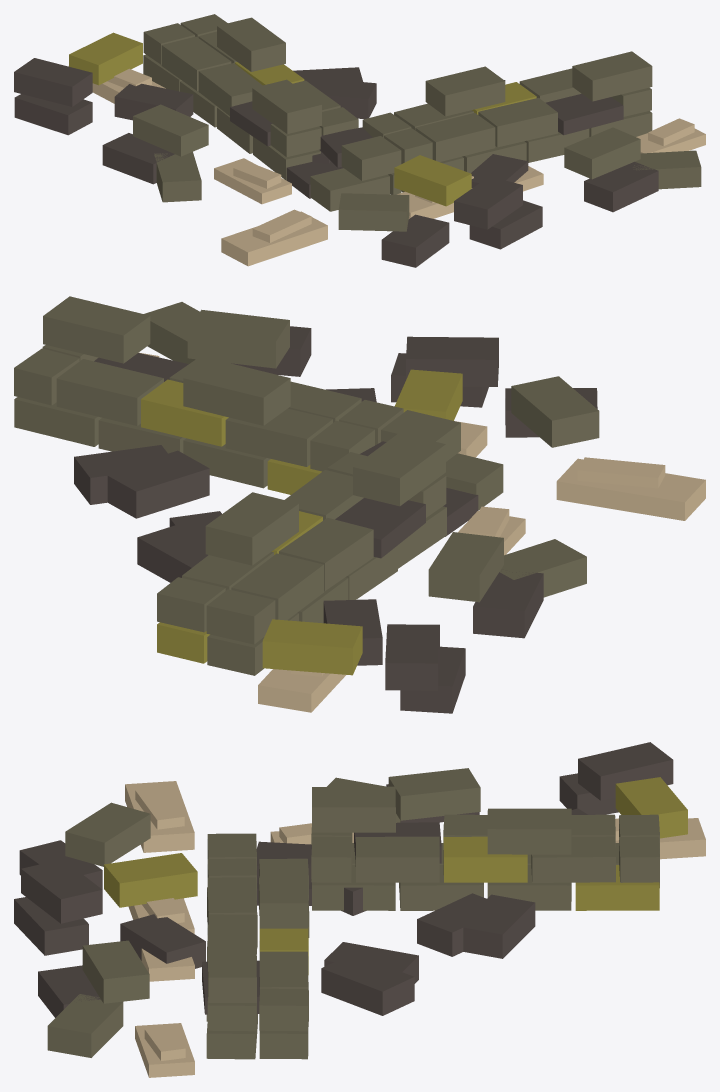
Rendered from SM_SacosEsquina_v2_Irregular_e2_MuyDanado_LOD0.fbx.
3 renders of one model, top to bottom at view 1: azimuth 30°, elevation 25°; view 2: azimuth 150°, elevation 25°; view 3: azimuth 270°, elevation 25°, orthographic. The views are drawn at different scales.
Parts seen in each view (by area): view 1: SM_sacos_piezas_v10_LOD0; view 2: SM_sacos_piezas_v10_LOD0; view 3: SM_sacos_piezas_v10_LOD0.
Boxes of the visible parts, x1,y1,x2,y2 form: SM_sacos_piezas_v10_LOD0: (14, 14, 705, 267); SM_sacos_piezas_v10_LOD0: (14, 296, 705, 713); SM_sacos_piezas_v10_LOD0: (14, 742, 705, 1077).
Bounding box in the file's own units: 6.64 × 0.885 × 6.69.
